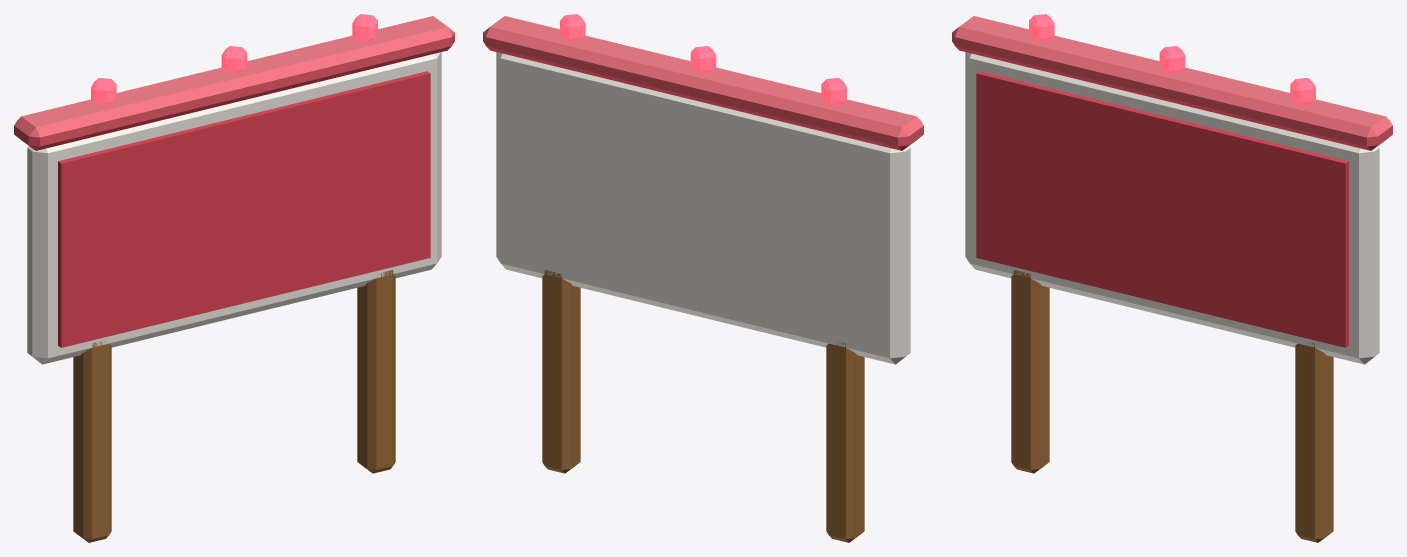
The model's file is OwnerBoard_0.glb.
The picture shows the model from 3 angles, left to right: view 1: azimuth 30°, elevation 25°; view 2: azimuth 150°, elevation 25°; view 3: azimuth 330°, elevation 25°; orthographic projection.
Parts seen in each view (by area): view 1: OwnerBoard_0, OwnerBoard_0_Glow_acc0; view 2: OwnerBoard_0, OwnerBoard_0_Glow_acc0; view 3: OwnerBoard_0, OwnerBoard_0_Glow_acc0.
Part boxes in pixels (bbox=[...]): OwnerBoard_0: bbox=[14, 16, 454, 542]; OwnerBoard_0_Glow_acc0: bbox=[91, 14, 377, 105]; OwnerBoard_0: bbox=[483, 16, 923, 542]; OwnerBoard_0_Glow_acc0: bbox=[560, 14, 846, 105]; OwnerBoard_0: bbox=[952, 16, 1392, 542]; OwnerBoard_0_Glow_acc0: bbox=[1029, 14, 1315, 105].
Bounding box in the file's own units: 15 × 15.25 × 1.4.
2 materials, 1 textured.
